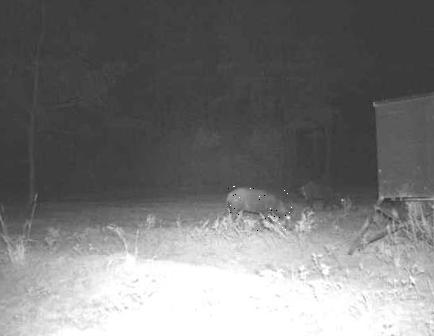Hog: (223, 183, 293, 232), (296, 176, 351, 214)
